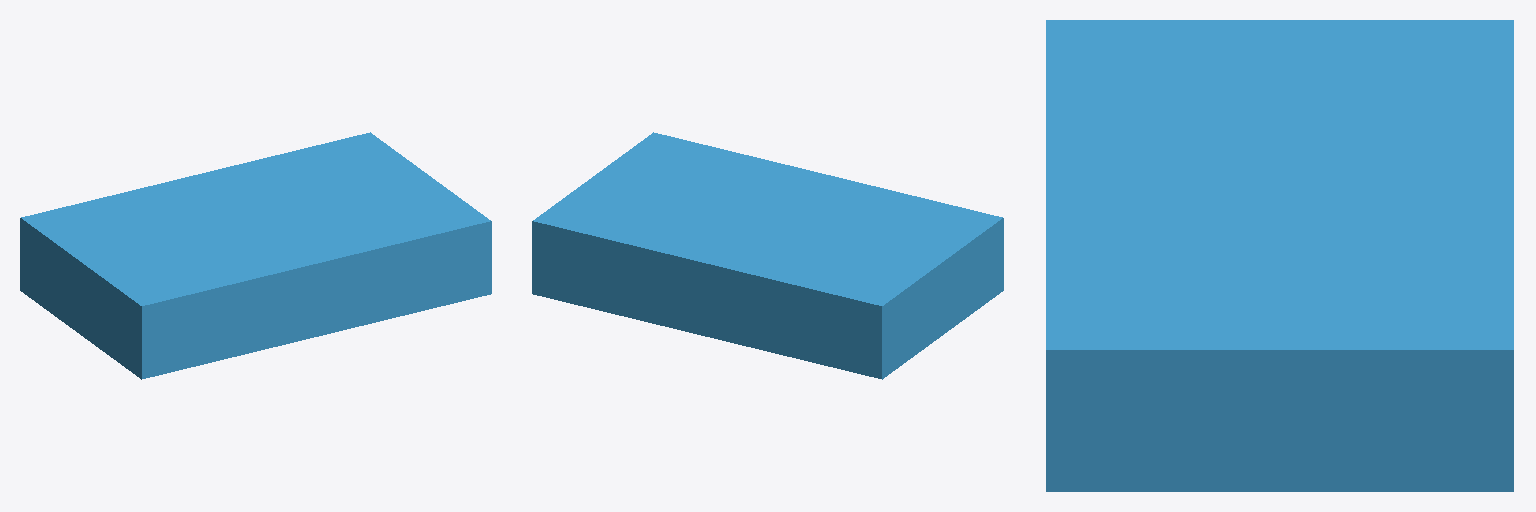
robot.urdf — testbot:
<robot name="testbot">
  <link name="base_footprint" />

  <joint name="base_joint" type="fixed">
    <parent link="base_footprint"/>
    <child link="base_link"/>
    <origin xyz="0 0 0" rpy="0 0 0"/>
  </joint>

  <link name="base_link">
    <visual>
      <geometry>
        <box size="0.5 0.3 0.1"/>
      </geometry>
    </visual>
  </link>
</robot>

--- Facts derived from the render (not from the file) ---
Views: 3 orthographic renders of the robot side by side, from view 1: azimuth 30°, elevation 25°; view 2: azimuth 150°, elevation 25°; view 3: azimuth 270°, elevation 25°.
Model testbot with 2 links and 1 joints (1 fixed), rooted at base_footprint, posed all joints at 0.
Visible links, largest first — view 1: base_link; view 2: base_link; view 3: base_link.
Boxes of the visible links, x1,y1,x2,y2 form: base_link: [20, 132, 491, 379]; base_link: [532, 132, 1003, 379]; base_link: [1046, 20, 1513, 491].
Bounding box of the posed robot: 0.5 × 0.3 × 0.1 m (x, y, z).
Geometry: primitives only (box / cylinder / sphere), no mesh files.
